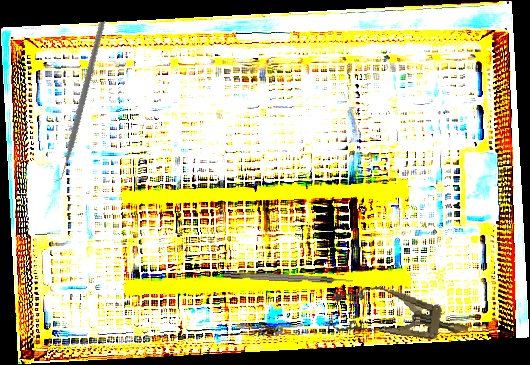Chopper: (6, 20, 147, 185)
Hook Surgical: (223, 271, 354, 285)
Speculum: (327, 279, 473, 355)
